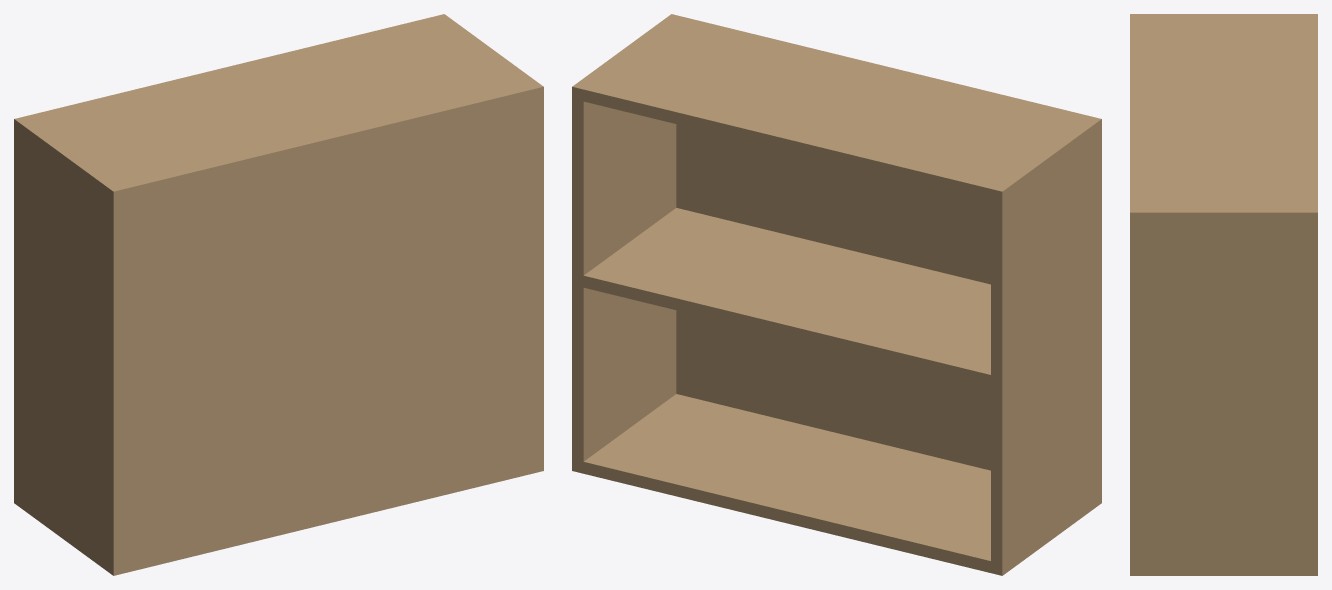
Rendered from parametric-wall-shelf-3rd-0750x0300x0640.glb.
3 views of the same model, side by side, from view 1: azimuth 30°, elevation 25°; view 2: azimuth 150°, elevation 25°; view 3: azimuth 270°, elevation 25° (orthographic). The views are drawn at different scales.
Parts seen in each view (by area): view 1: backboard, top, end:-1, end:1; view 2: backboard, top, end:-1, bottom, shelf, end:1; view 3: end:1, top, backboard, end:-1.
Boxes of the visible parts, x1,y1,x2,y2 form: backboard: (107, 82, 543, 575); top: (26, 17, 524, 183); end:-1: (14, 116, 117, 570); end:1: (433, 14, 536, 84); backboard: (665, 14, 1101, 507); top: (583, 21, 1083, 200); end:-1: (991, 121, 1095, 575); bottom: (583, 394, 990, 572); shelf: (583, 208, 990, 386); end:1: (572, 19, 676, 473); end:1: (1142, 207, 1317, 575); top: (1142, 19, 1317, 207); backboard: (1130, 14, 1142, 575); end:-1: (1142, 14, 1317, 19).
Bounding box in the file's own units: 0.75 × 0.64 × 0.3.
